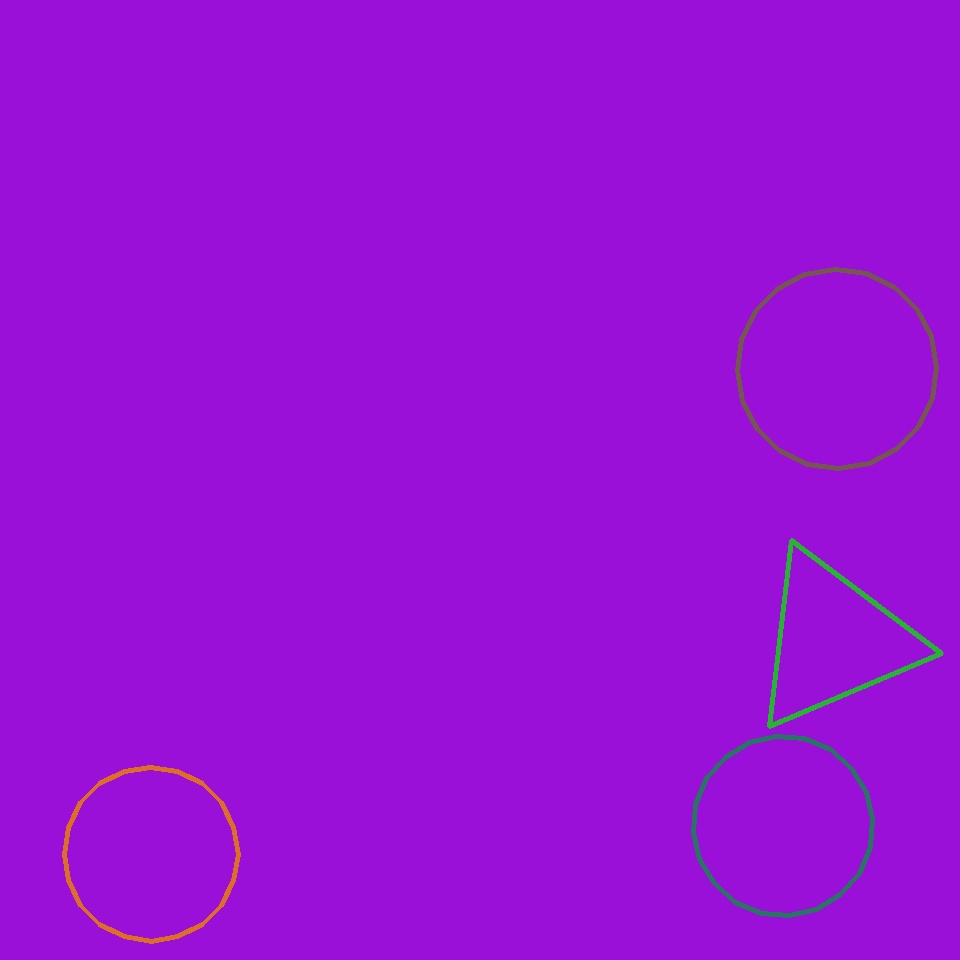circle: (748, 547, 920, 733)
triangle: (738, 270, 936, 468), (694, 736, 873, 916), (64, 767, 238, 941)
